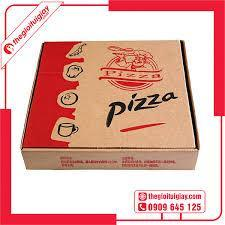box: (21, 39, 200, 170)
